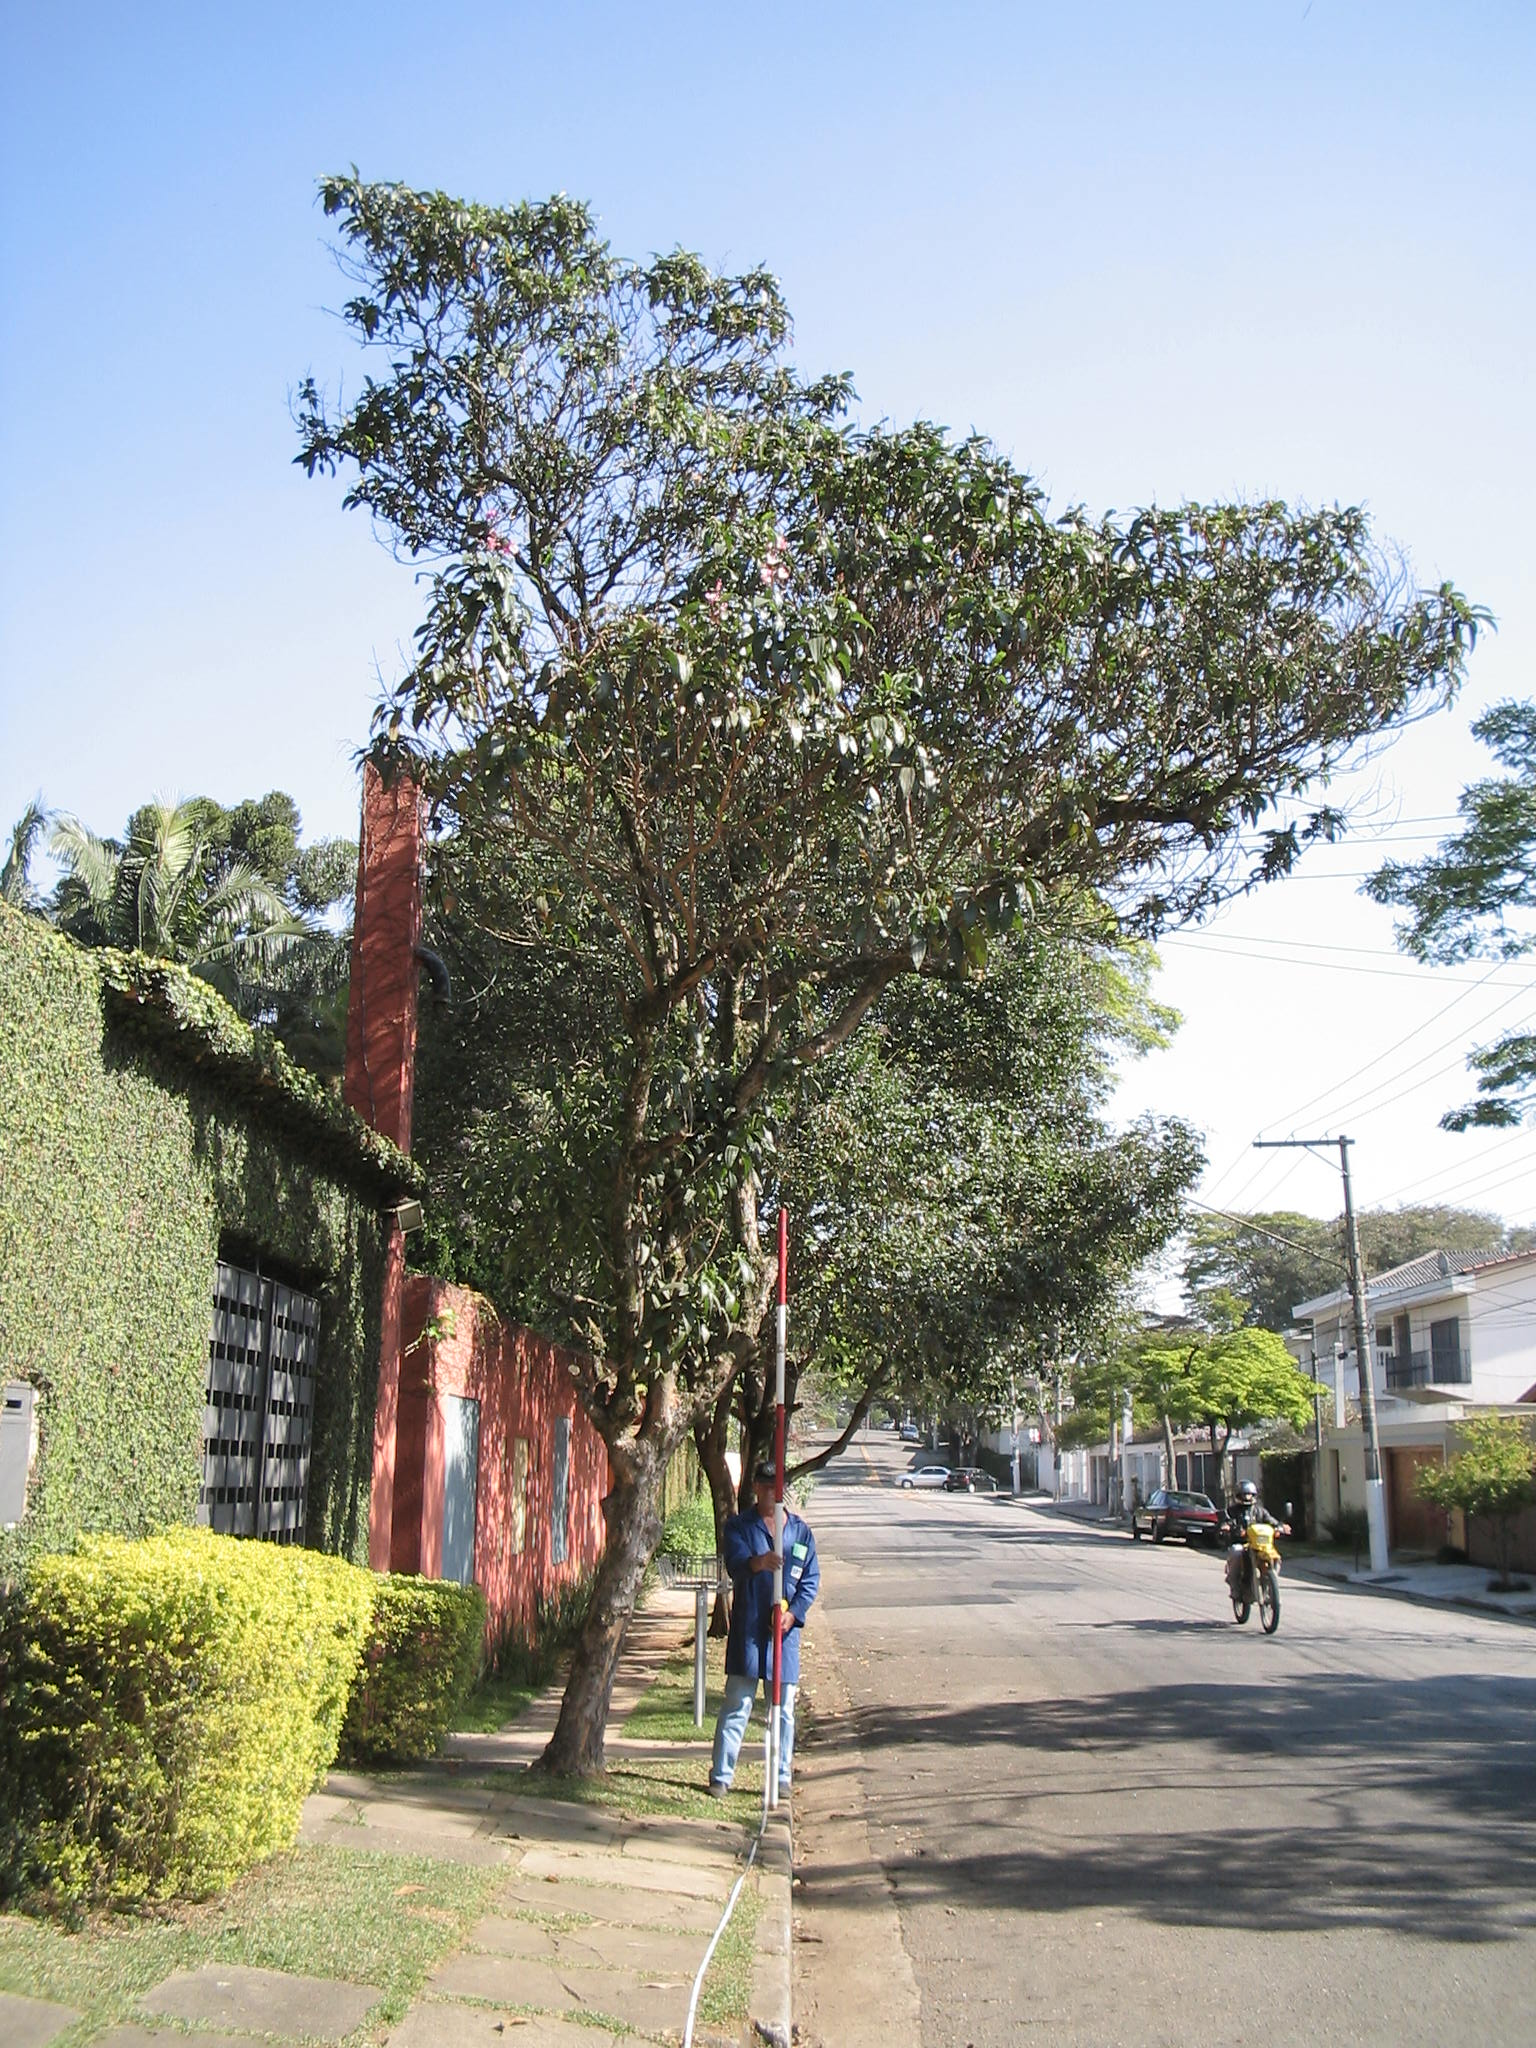crown: (307, 161, 1492, 1126)
stem: (502, 1426, 749, 1782)
stick: (733, 1213, 841, 1803)
tree: (294, 158, 1507, 1790)
